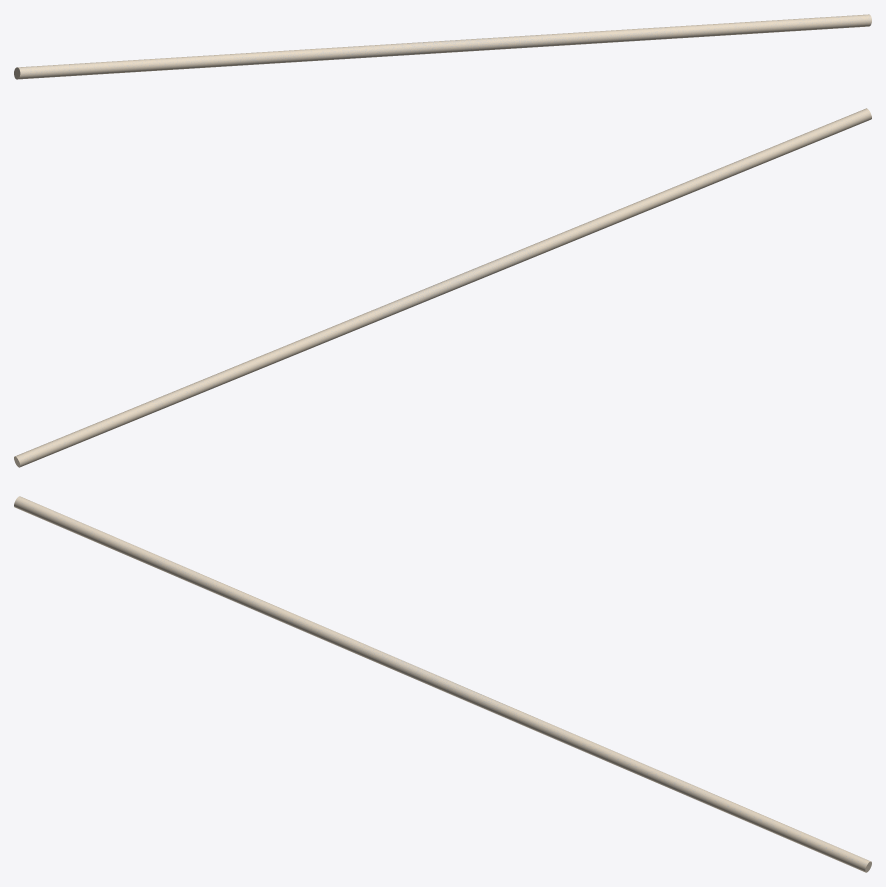
The model's file is original-70.obj.
The picture shows the model from 3 angles, top to bottom: view 1: azimuth 30°, elevation 25°; view 2: azimuth 210°, elevation 25°; view 3: azimuth 330°, elevation 25°; orthographic projection.
Visible parts, largest first — view 1: mesh8/mesh8-geometry#mesh8-geometry; view 2: mesh8/mesh8-geometry#mesh8-geometry; view 3: mesh8/mesh8-geometry#mesh8-geometry.
Part boxes in pixels (left/top/right/bottom): mesh8/mesh8-geometry#mesh8-geometry: left=14, top=14, right=871, bottom=79; mesh8/mesh8-geometry#mesh8-geometry: left=14, top=108, right=871, bottom=467; mesh8/mesh8-geometry#mesh8-geometry: left=14, top=496, right=871, bottom=872.
Size of the model in its own units: 1.7 by 0.304 by 0.0474.
